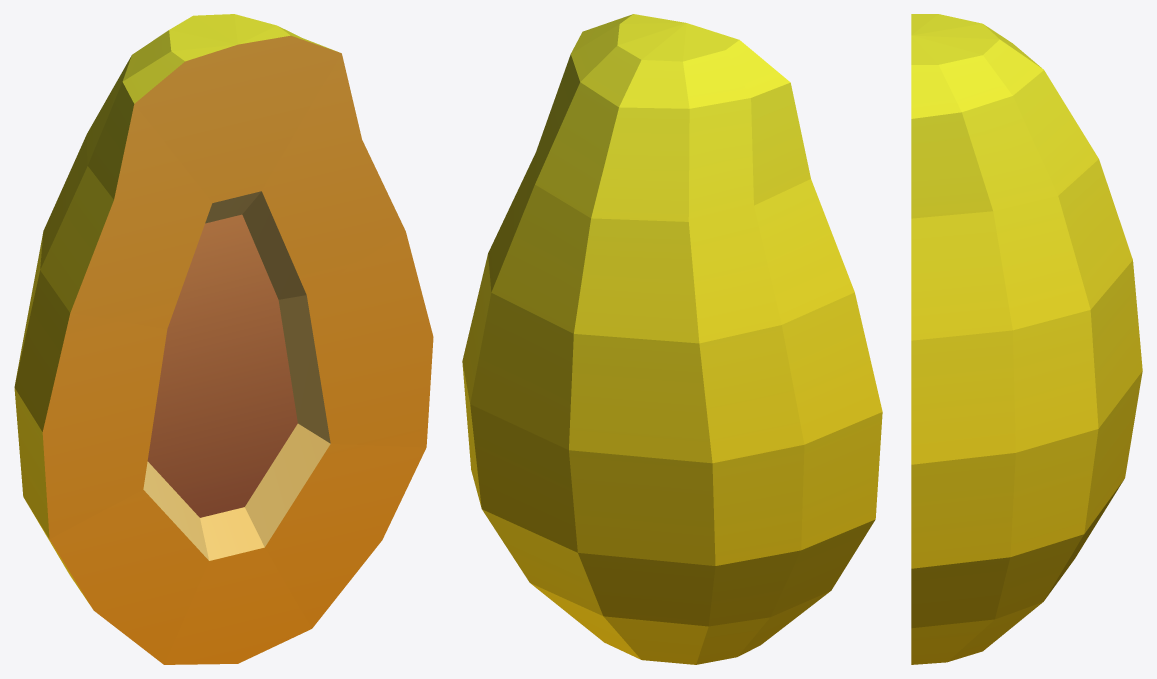
Rendered from Papaya Half.fbx.
The picture shows the model from 3 angles, left to right: view 1: azimuth 30°, elevation 25°; view 2: azimuth 150°, elevation 25°; view 3: azimuth 270°, elevation 25°; orthographic projection.
Visible parts, largest first — view 1: Papaya Half; view 2: Papaya Half; view 3: Papaya Half.
Part boxes in pixels (x1,y1,x2,y2): Papaya Half: (14,14,433,664); Papaya Half: (462,14,882,664); Papaya Half: (911,14,1142,664).
Size of the model in its own units: 16.82 by 25.47 by 8.75.
